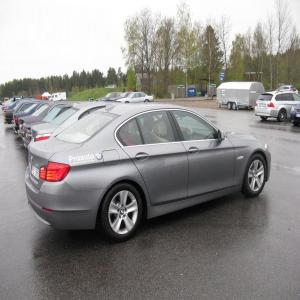Vehicle-registration-plate: (32, 165, 40, 182)
